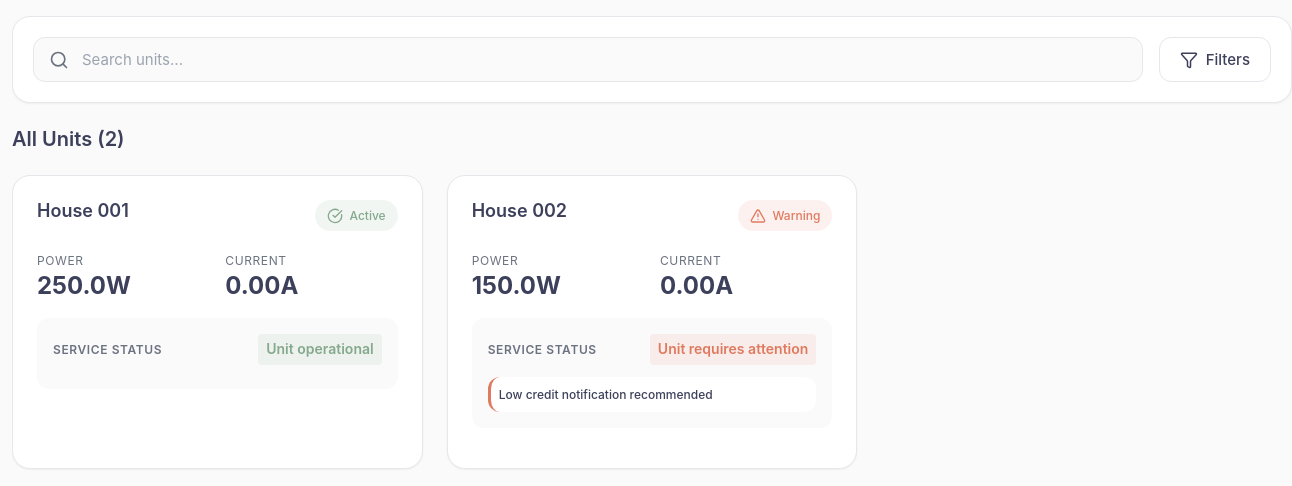
it: UnitsView Page › shows empty state when no matches
Type "xyz" into the field with placeholder "Search units...".
click(588, 60); type("xyz")  # box x1=33 y1=37 x2=1143 y2=82
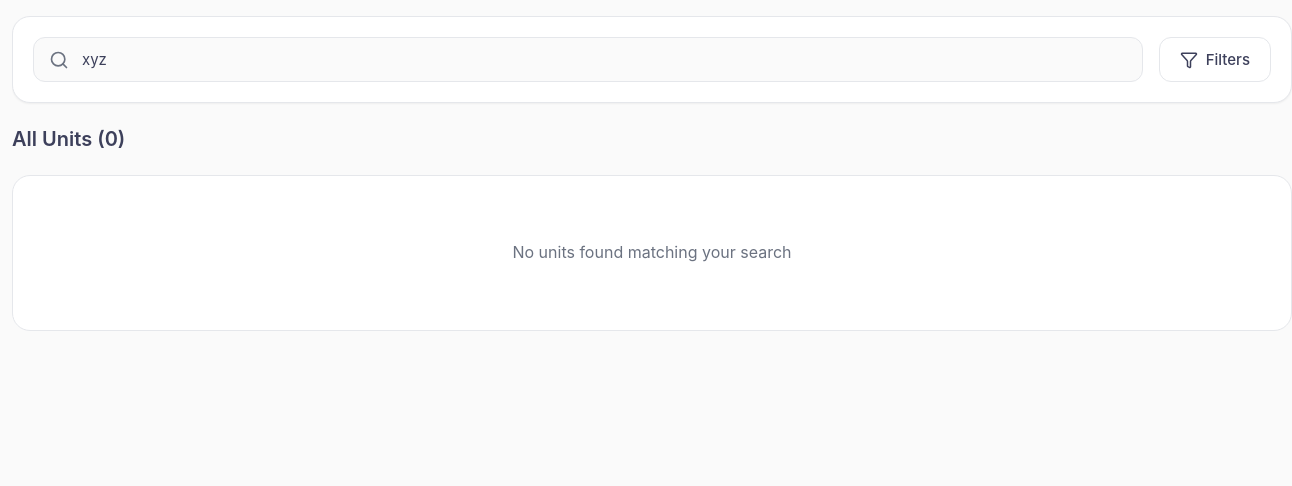
Now the text "No units found matching your search" is shown, box x1=512 y1=242 x2=792 y2=262
